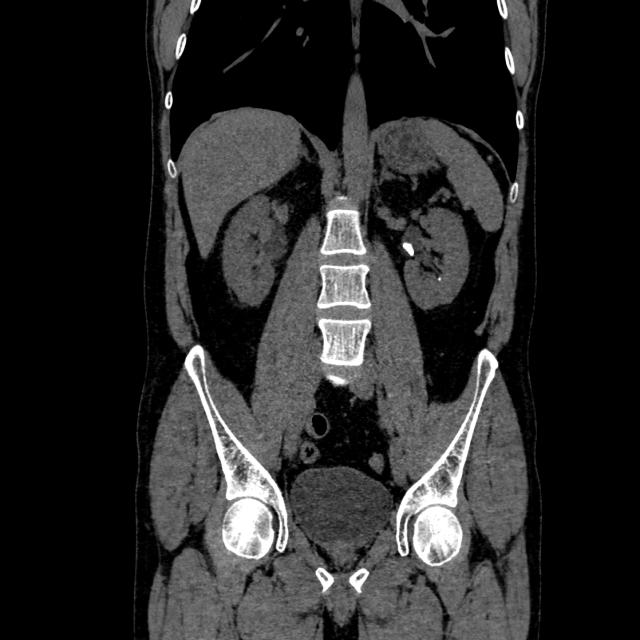kidneystone: (401, 241, 415, 258), (439, 270, 441, 281)
